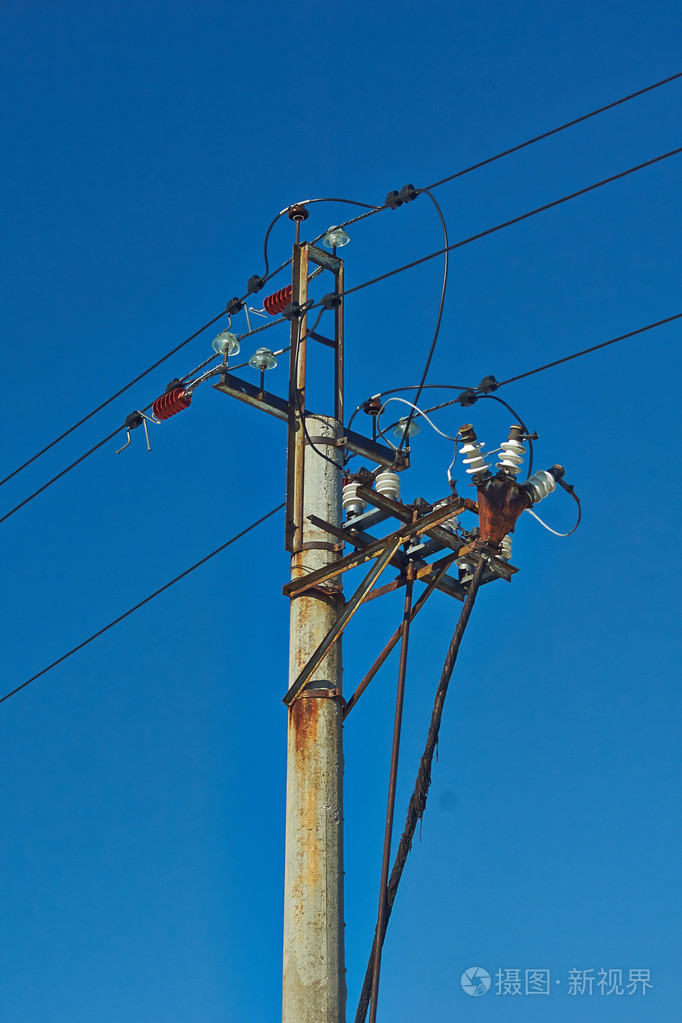insulator: (146, 388, 188, 422), (263, 284, 301, 312), (498, 438, 525, 476), (458, 442, 486, 478), (527, 467, 555, 500), (377, 470, 401, 497), (339, 484, 364, 509)
